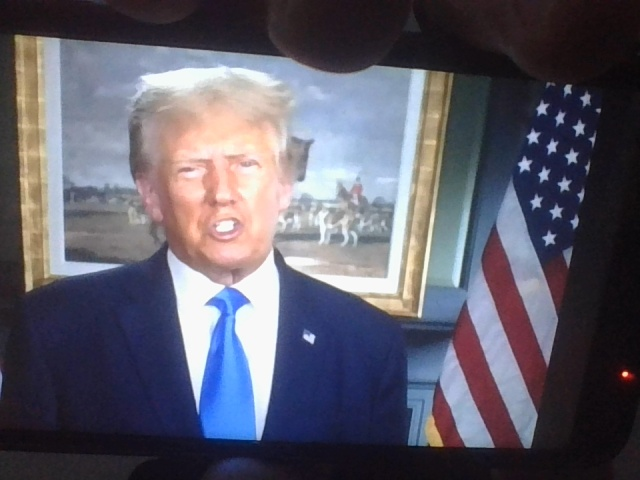fake: (144, 56, 302, 280)
